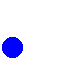circle: (2, 37, 22, 57)
